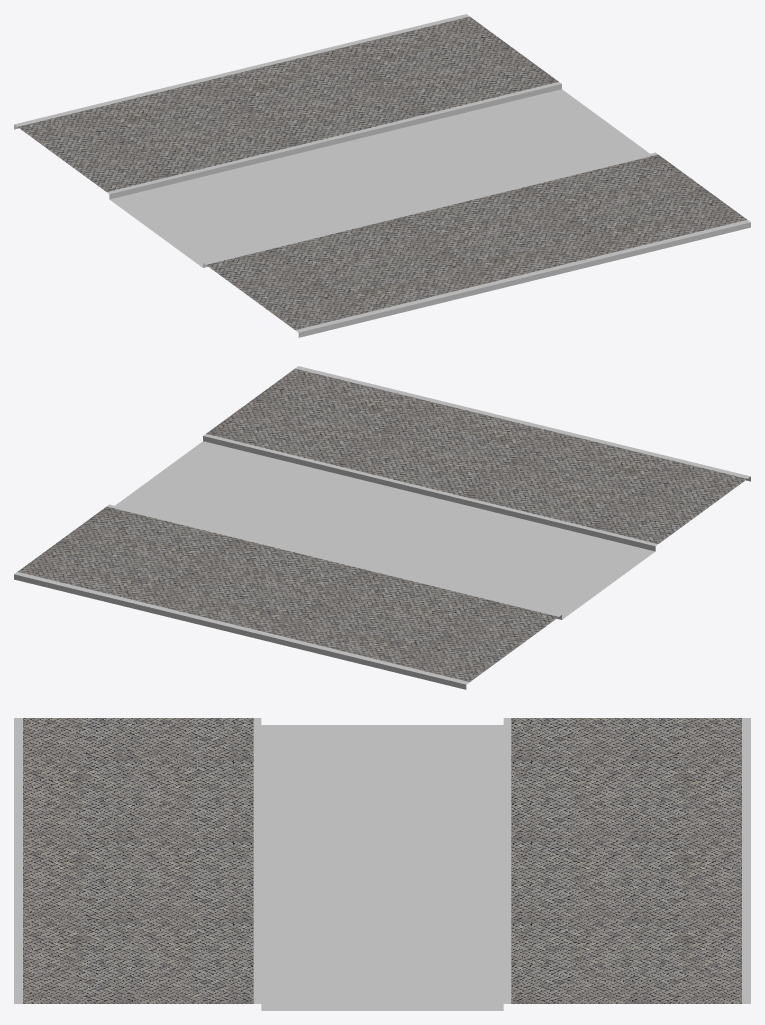
File: ec_road.fbx
3 views of the same model, one above another, from view 1: azimuth 30°, elevation 25°; view 2: azimuth 150°, elevation 25°; view 3: azimuth 270°, elevation 25° (orthographic). The views are drawn at different scales.
Parts seen in each view (by area): view 1: Mesh; view 2: Mesh; view 3: Mesh.
Part boxes in pixels (x1=…): Mesh: x1=14, y1=14, x2=750, y2=337; Mesh: x1=14, y1=366, x2=750, y2=689; Mesh: x1=14, y1=718, x2=750, y2=1010.
Bounding box in the file's own units: 2259 × 25 × 2460.
